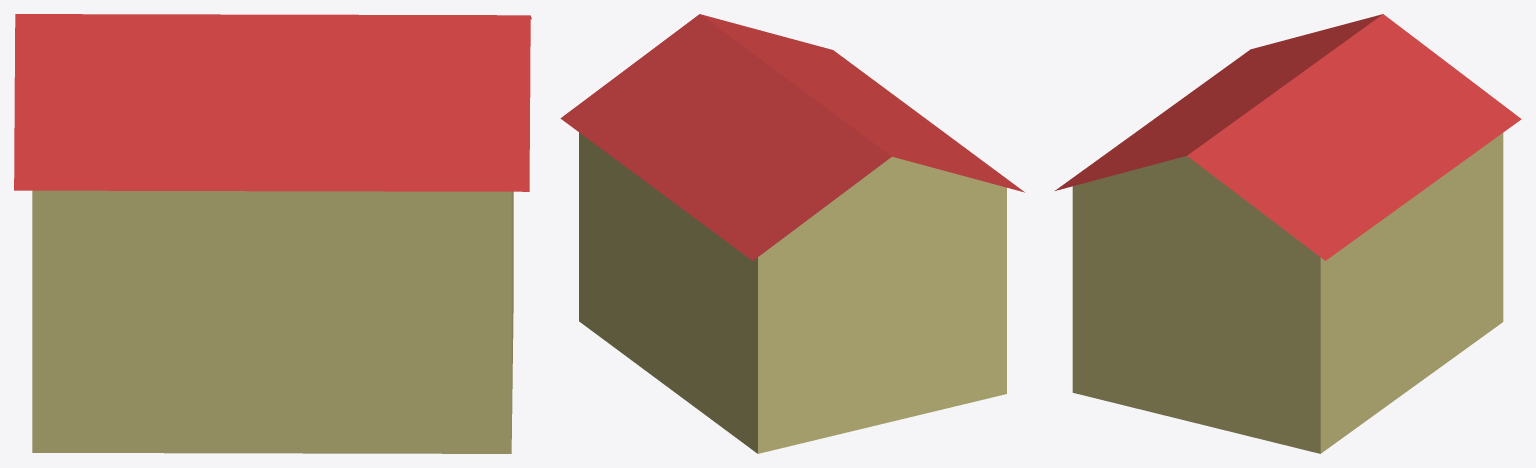
3 views of the same model, side by side, from view 1: azimuth 30°, elevation 25°; view 2: azimuth 150°, elevation 25°; view 3: azimuth 270°, elevation 25° (orthographic). The views are drawn at different scales.
Size of the model in its own units: 18.15 by 17.17 by 11.01.
